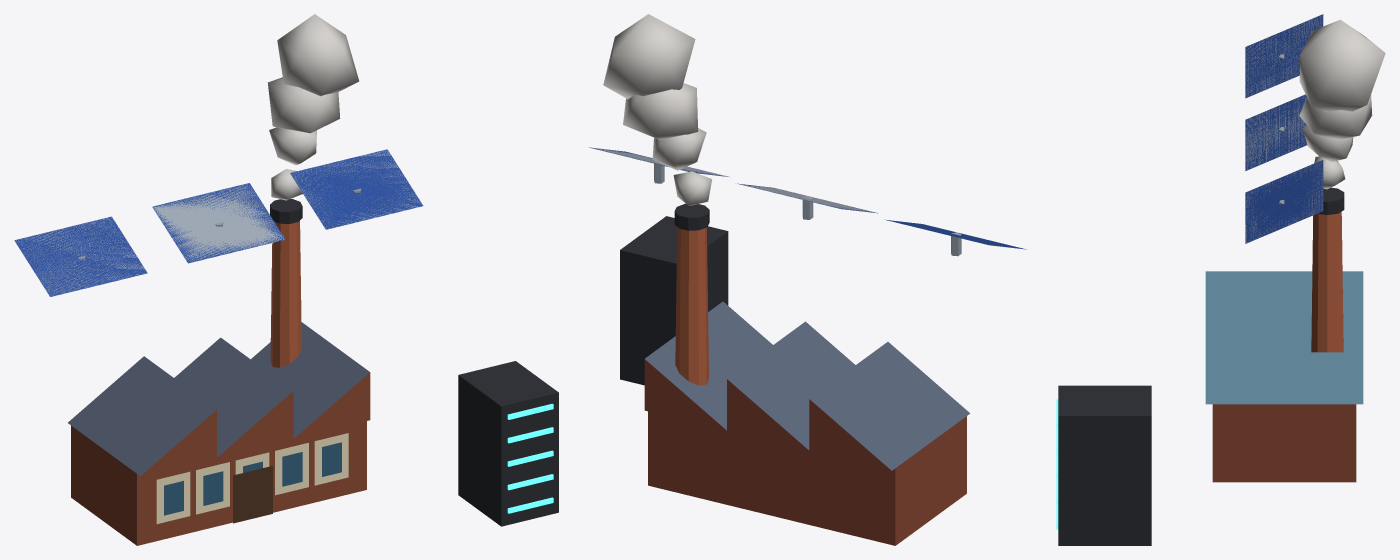
The model's file is building_electronics_factory.fbx.
3 views of the same model, side by side, from view 1: azimuth 30°, elevation 25°; view 2: azimuth 150°, elevation 25°; view 3: azimuth 270°, elevation 25° (orthographic). The views are drawn at different scales.
Visible parts, largest first — view 1: building_electronics_factory; view 2: building_electronics_factory; view 3: building_electronics_factory.
Part boxes in pixels (left/top/right/bottom): building_electronics_factory: left=14, top=14, right=558, bottom=545; building_electronics_factory: left=588, top=14, right=1026, bottom=545; building_electronics_factory: left=1056, top=14, right=1385, bottom=545.
Size of the model in its own units: 73.5 by 71.71 by 45.92.
